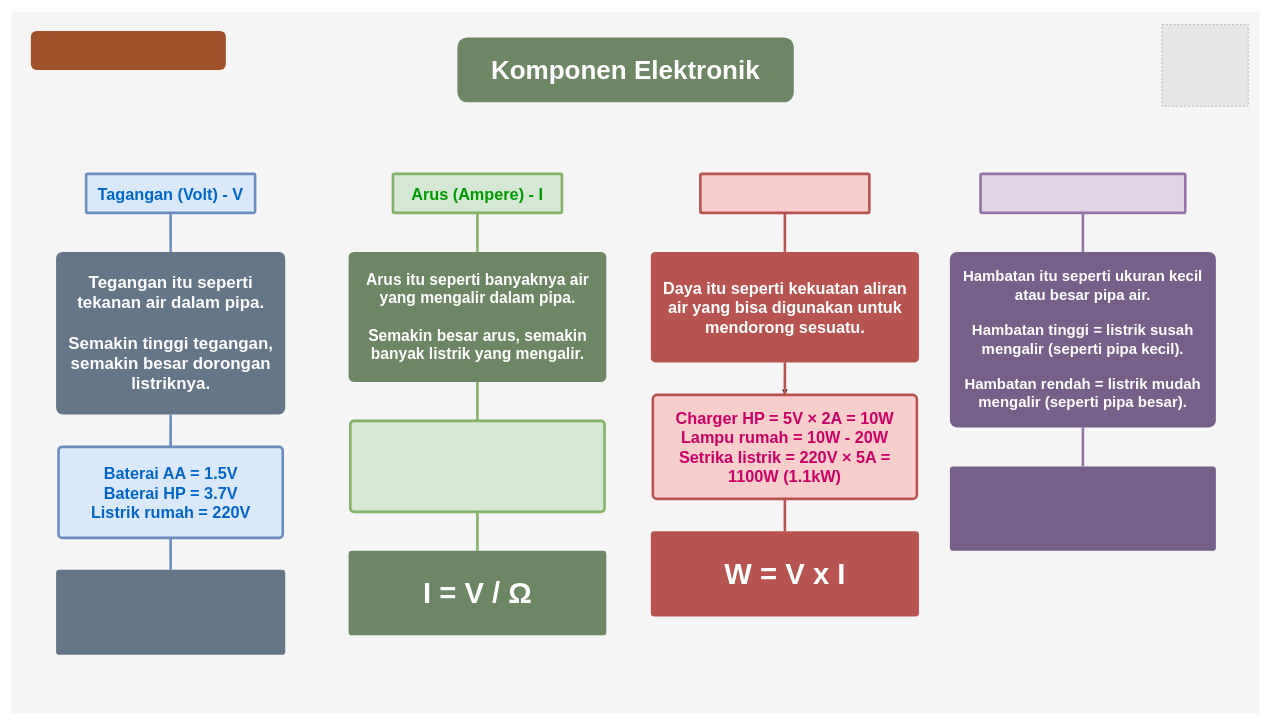
Image size: 1270x724. Some labels were removed from this diagram. Grey dashed boxes stand in for pictures. Here are the shapes that lost their labels. From the top down, the centre of each, then its label:
[128,50]: Dasar Elektronika
[784,193]: Daya (Watt) - W
[1082,193]: Hambatan (Ohm) - Ω
[477,466]: LED kecil = 20mA (0.02A) Charger HP = 2A Motor listrik = 10A ke atas
[1083,508]: Ω = V / A
[170,612]: V = I x Ω
